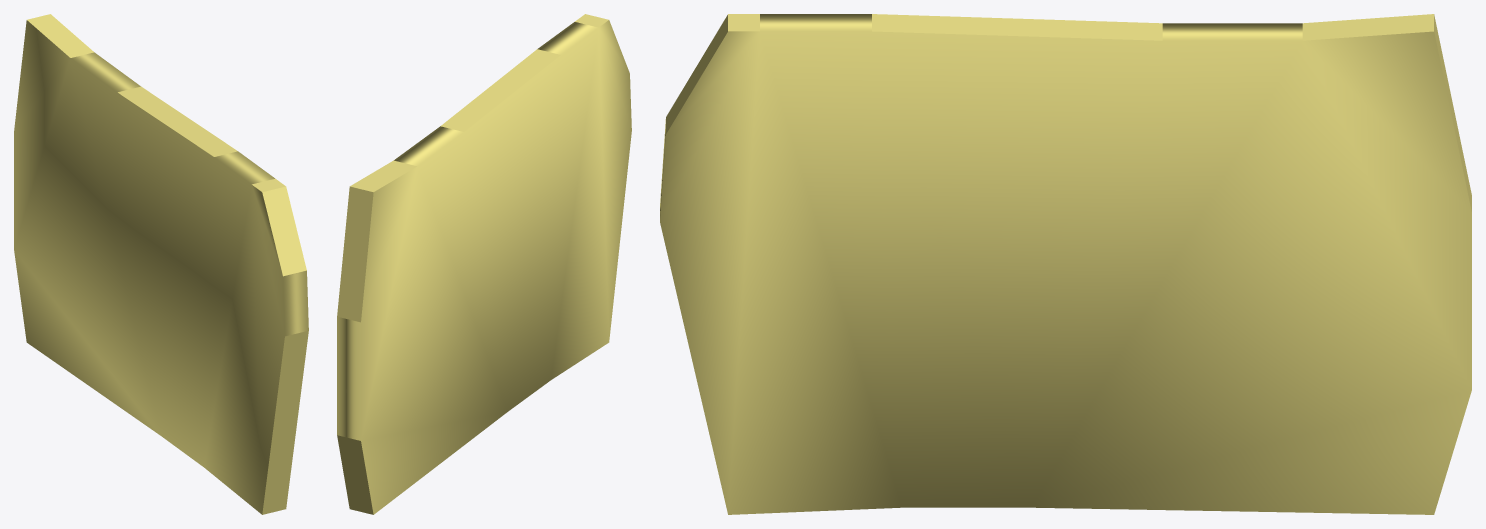
File: slice_butter.obj
3 renders of one model, left to right at view 1: azimuth 30°, elevation 25°; view 2: azimuth 150°, elevation 25°; view 3: azimuth 270°, elevation 25°, orthographic. The views are drawn at different scales.
Parts seen in each view (by area): view 1: cheeseCut; view 2: cheeseCut; view 3: cheeseCut.
Part boxes in pixels (x1,y1,x2,y2): cheeseCut: (14,14,308,514); cheeseCut: (337,14,631,514); cheeseCut: (660,14,1471,514).
Size of the model in its own units: 0.00717 by 0.0924 by 0.1406.
